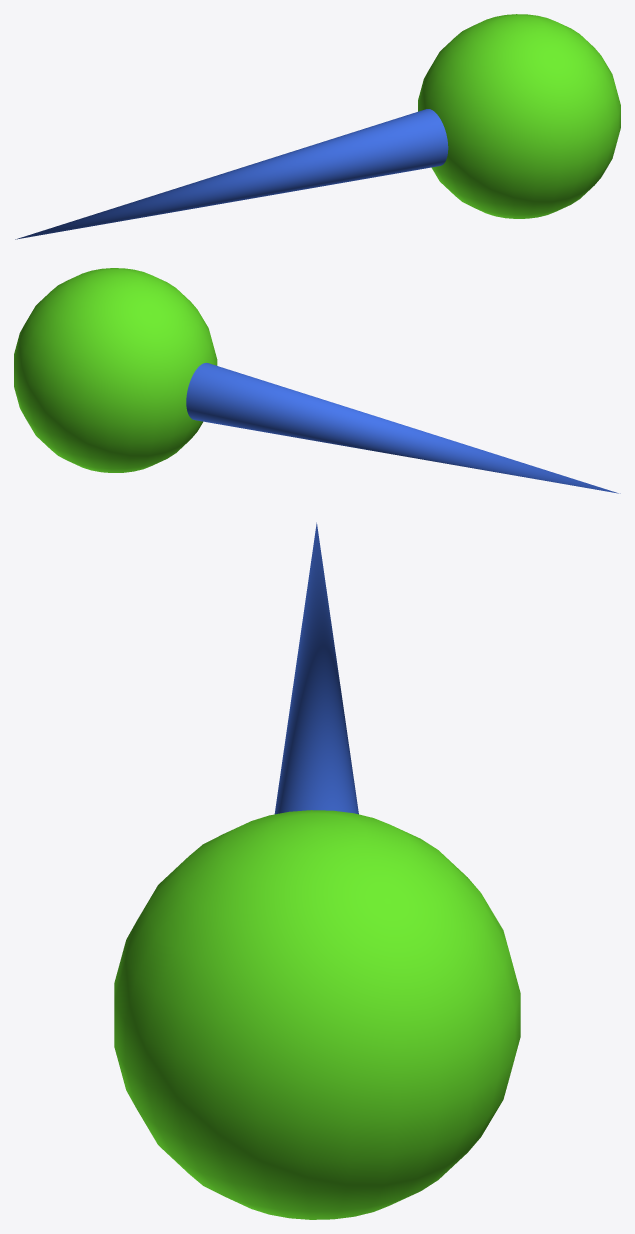
Rendered from Needle.fbx.
3 renders of one model, top to bottom at view 1: azimuth 30°, elevation 25°; view 2: azimuth 150°, elevation 25°; view 3: azimuth 270°, elevation 25°, orthographic. The views are drawn at different scales.
Parts seen in each view (by area): view 1: Cone; view 2: Cone; view 3: Cone.
Part boxes in pixels (left/top/right/bottom): Cone: left=15, top=14, right=620, bottom=239; Cone: left=14, top=268, right=620, bottom=493; Cone: left=114, top=522, right=520, bottom=1219.
Bounding box in the file's own units: 263 × 78.94 × 78.1.
